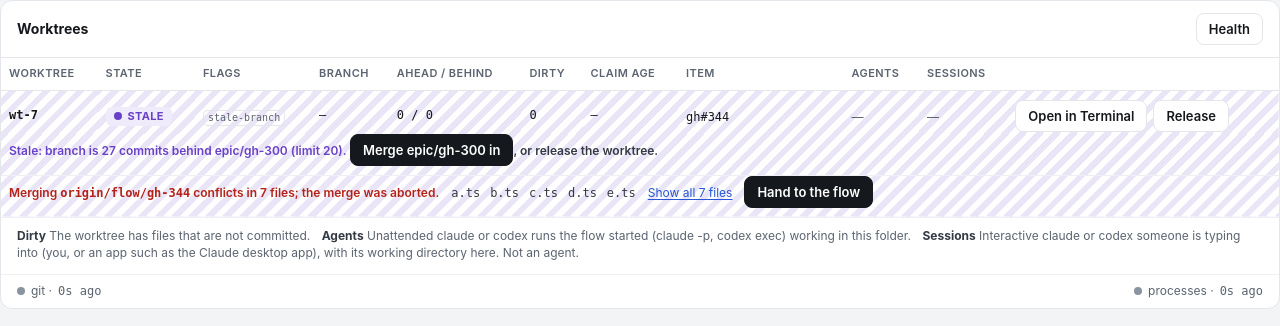
Scenario: SyncConflicted_ListsTheFilesFoldedAfterFive
Expected: the list named "Conflicting files" reads "a.ts b.ts c.ts d.ts e.ts", [451, 185, 636, 202]
Click the button "Show all 7 files": (690, 193) [648, 185, 732, 202]
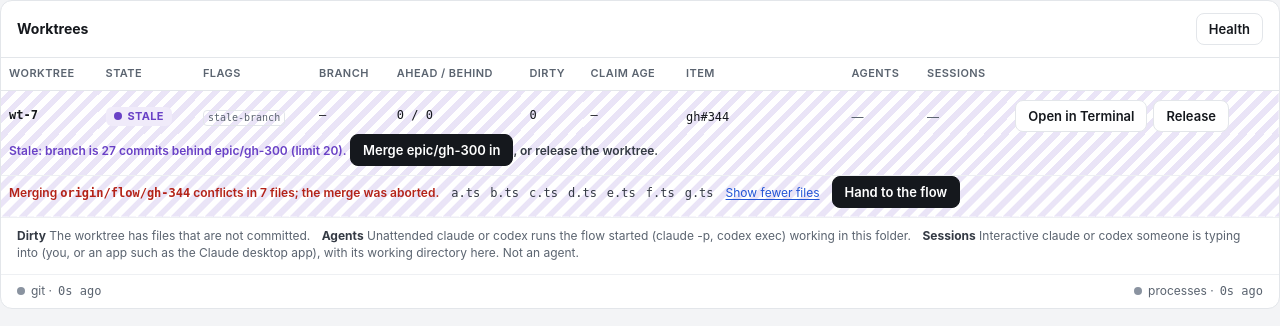
Result: the list named "Conflicting files" shows "g.ts" at [685, 186, 714, 200]
